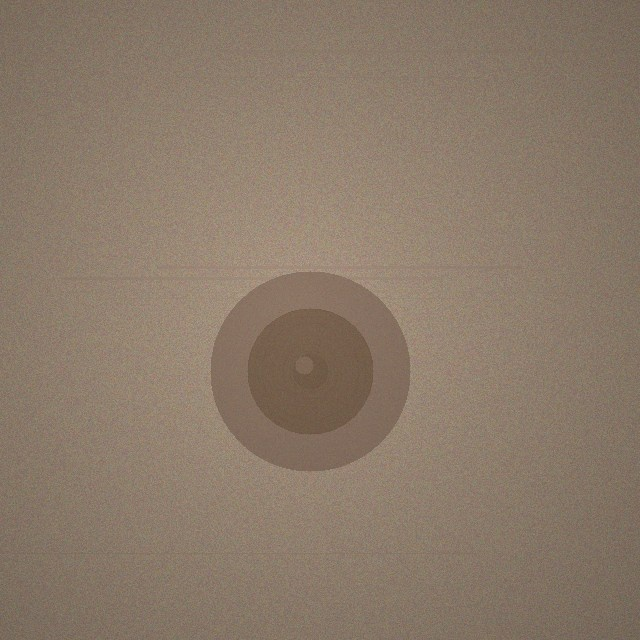good: (210, 271, 410, 471)
